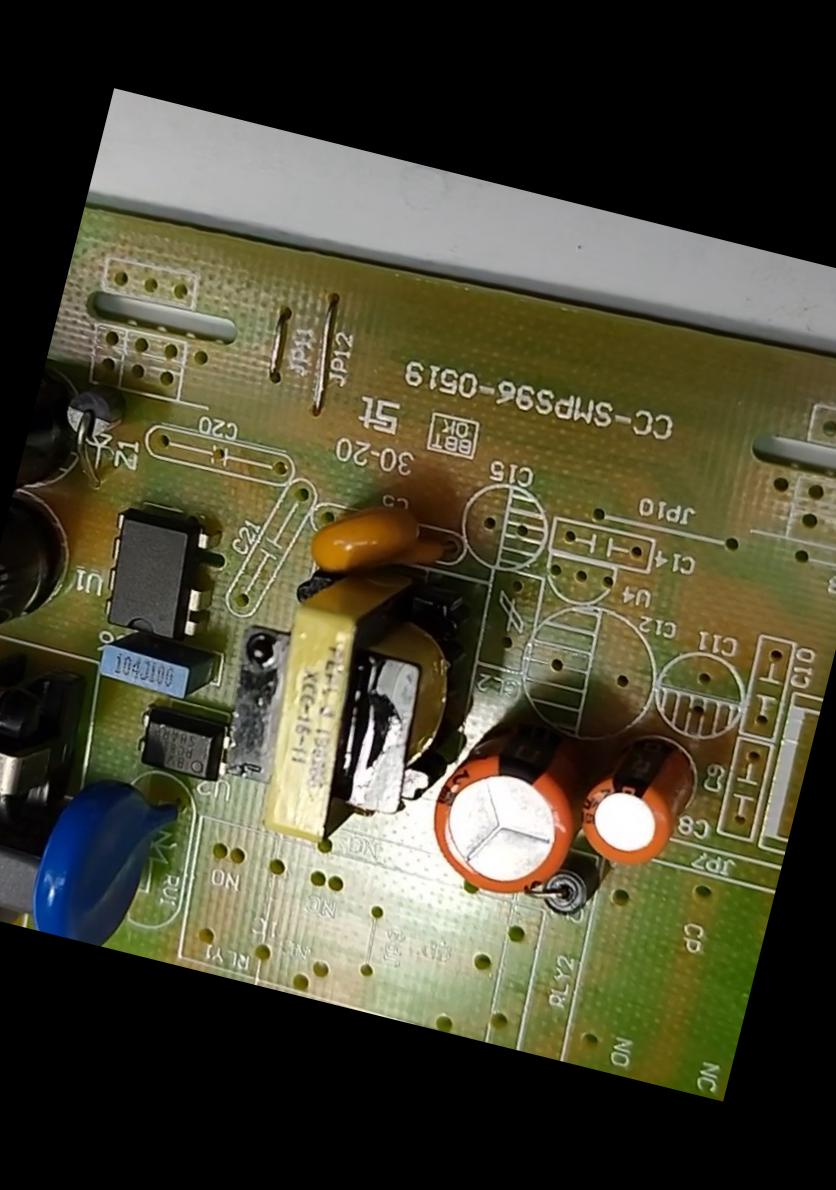Cap1: (412, 698, 600, 912)
Cap2: (568, 720, 703, 877)
Cap3: (0, 538, 64, 686)
Cap4: (2, 371, 97, 549)
MOSFET: (88, 506, 224, 649)
Mov: (19, 766, 185, 957)
Resistor: (0, 891, 19, 925)
Transformer: (208, 556, 485, 868), (0, 669, 74, 839)
